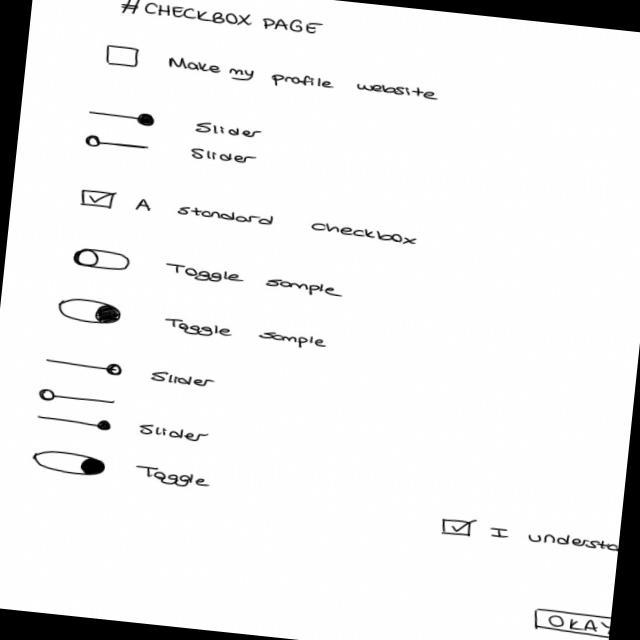button: (531, 607, 612, 640)
checkbox: (102, 44, 444, 106), (80, 188, 423, 248), (438, 515, 621, 559)
label: (117, 1, 325, 39), (161, 262, 346, 300), (164, 316, 331, 352), (134, 463, 212, 491), (194, 118, 269, 142), (138, 423, 215, 445), (189, 146, 260, 168), (147, 370, 218, 390)
slider: (43, 356, 126, 378), (39, 388, 120, 410), (34, 411, 114, 433), (87, 106, 160, 130), (84, 133, 153, 155)
toggle: (30, 448, 108, 479), (57, 296, 125, 329), (71, 246, 133, 275)
